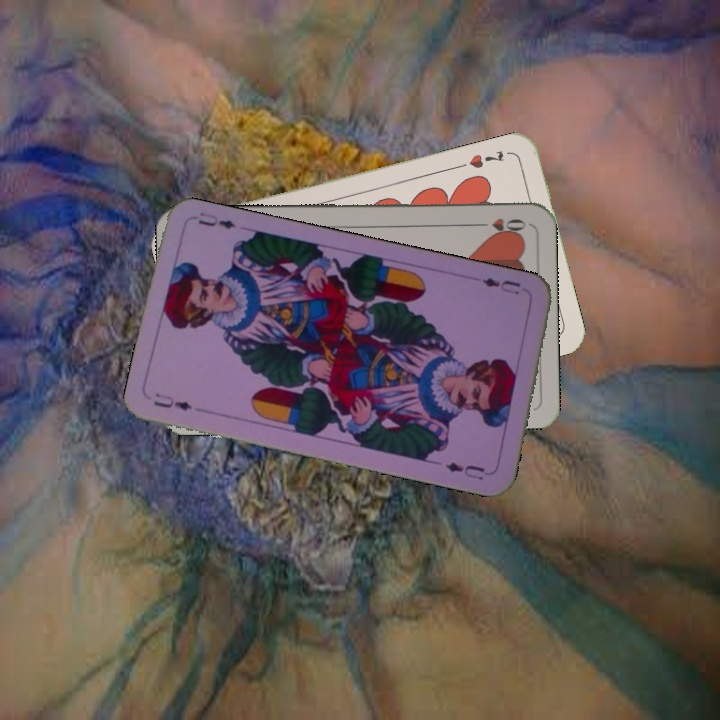EU: (149, 389, 195, 414), (478, 273, 523, 297)
H7: (465, 146, 507, 171)
HO: (471, 214, 529, 235)
